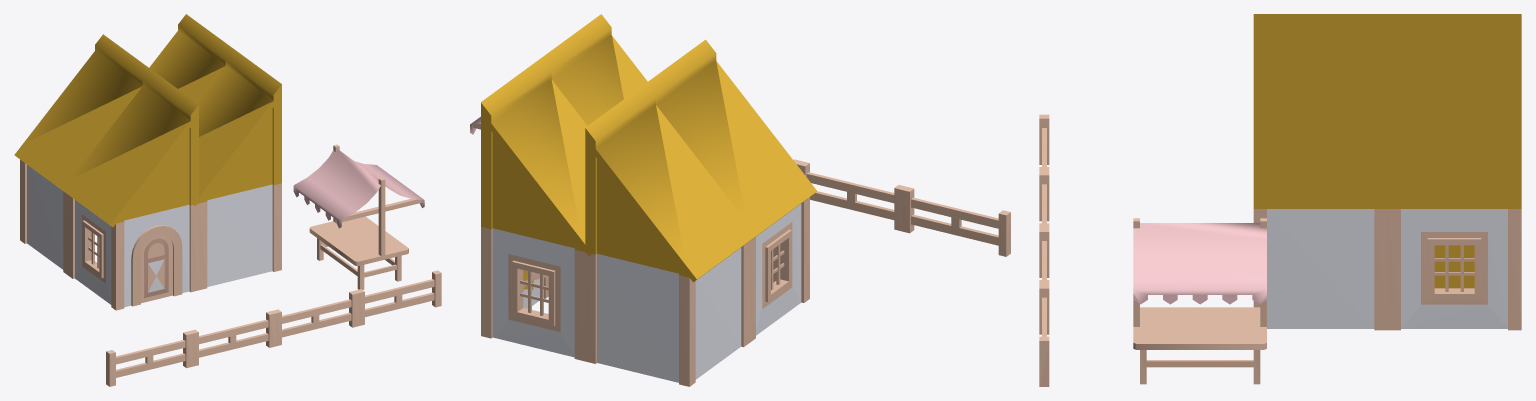
The model's file is barracks_l2.glb.
The picture shows the model from 3 angles, left to right: view 1: azimuth 30°, elevation 25°; view 2: azimuth 150°, elevation 25°; view 3: azimuth 270°, elevation 25°; orthographic projection. The views are drawn at different scales.
Visible parts, largest first — view 1: barracks_l2; view 2: barracks_l2; view 3: barracks_l2.
Boxes of the visible parts, box(x1,y1,x2,y2) form: barracks_l2: box(14, 14, 441, 386); barracks_l2: box(470, 14, 1010, 386); barracks_l2: box(1039, 14, 1521, 386).
Size of the model in its own units: 7.9 by 4.03 by 6.77.
